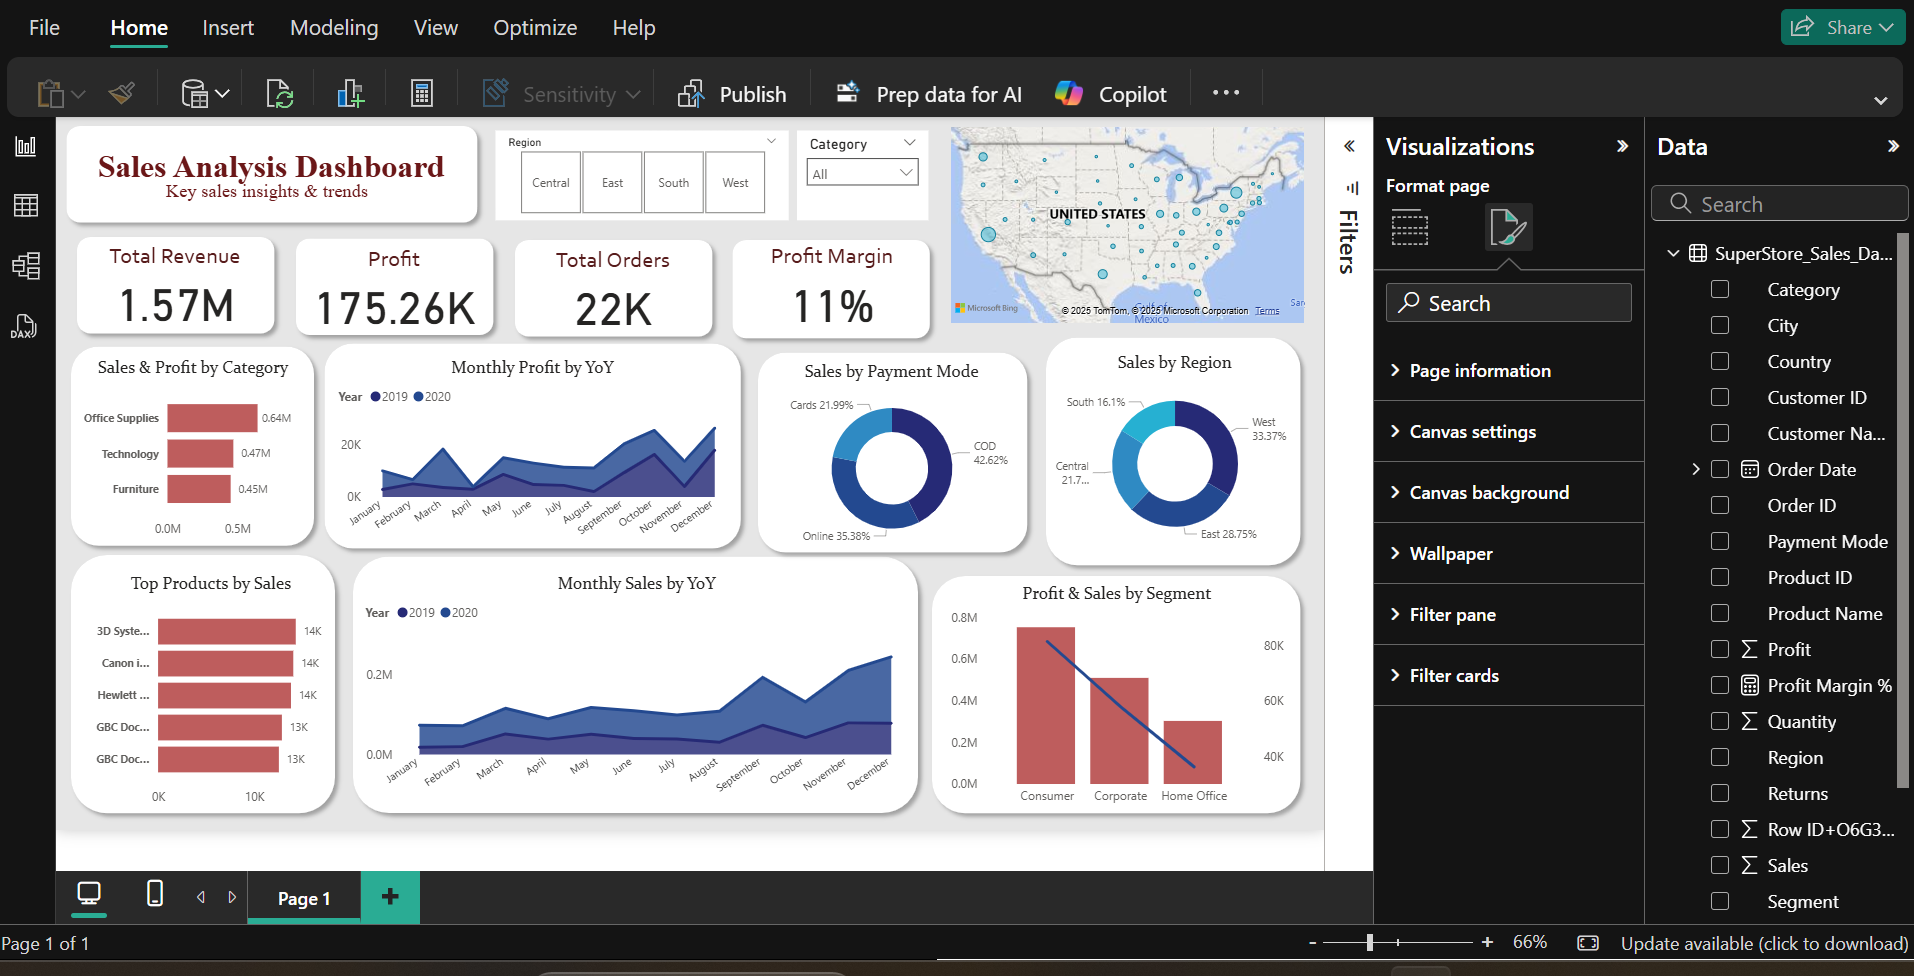

What the dashboard file says about the page in this screenshot:
{"tool":"powerbi","page":{"name":"Page 1","canvas":[1280,900],"ordinal":0},"visuals":[{"type":"cardVisual","fields":{"Data":["Orders.Total sale"]},"box":[11.4,134.3,181.4,102.9],"z":0},{"type":"cardVisual","fields":{"Data":["Orders.Total orders"]},"box":[207.1,134.3,172.9,101.4],"z":1000},{"type":"cardVisual","fields":{"Data":["Orders.Total profit"]},"box":[417.1,134.3,178.6,102.9],"z":2000},{"type":"cardVisual","fields":{"Data":["Orders.Profit Margin"]},"box":[602.9,134.3,174.3,102.9],"z":3000},{"type":"map","fields":{"Category":["Orders.State/Province"],"Size":["Orders.Total sale"]},"box":[817.1,112.9,445.7,358.6],"z":4000},{"type":"clusteredColumnChart","fields":{"Category":["Orders.Category"],"Y":["Orders.Total sale"]},"box":[408.6,484.3,385.7,207.1],"z":5000},{"type":"clusteredBarChart","title":"Top 10 Sub-Categories by Sales","fields":{"Y":["Orders.Total sale"],"Category":["Orders.Sub-Category"]},"box":[11.4,484.3,378.6,414.3],"z":6000},{"type":"donutChart","fields":{"Category":["Orders.Segment"],"Y":["Orders.Total sale"]},"box":[4.3,255.7,375.7,215.7],"z":7000},{"type":"pieChart","fields":{"Category":["Orders.Region"],"Y":["Orders.Total profit"]},"box":[414.3,255.7,375.7,215.7],"z":8000},{"type":"scatterChart","title":"Discount vs Profit","fields":{"Y":["Orders.Total profit"],"X":["Orders.Discount"]},"box":[817.1,484.3,445.7,207.1],"z":9000},{"type":"ribbonChart","title":"Sales Rank by Month","fields":{"Category":["Datetable.Month Number"],"Y":["Orders.Total sale"],"Series":["Orders.Category"]},"box":[408.6,691.4,854.3,208.6],"z":10000},{"type":"slicer","fields":{"Values":["Orders.Region"]},"box":[817.1,0,445.7,88.6],"z":11000},{"type":"slicer","fields":{"Values":["Orders.Category"]},"box":[210,64.3,360,70],"z":12000},{"type":"textbox","box":[0,0,790,55.7],"z":13000}]}

Visuals, with their boxes on the page's 1280x900 design canvas (x1, y1, x2, y2). These are canvas units, not pixel positions in the 1914x976 screenshot, which may show the page scaled, cropped or inside an application window:
cardVisual - Orders.Total sale: bbox=[11, 134, 193, 237]
cardVisual - Orders.Total orders: bbox=[207, 134, 380, 236]
cardVisual - Orders.Total profit: bbox=[417, 134, 596, 237]
cardVisual - Orders.Profit Margin: bbox=[603, 134, 777, 237]
map - Orders.State/Province x Orders.Total sale: bbox=[817, 113, 1263, 472]
clusteredColumnChart - Orders.Category x Orders.Total sale: bbox=[409, 484, 794, 691]
"Top 10 Sub-Categories by Sales" clusteredBarChart: bbox=[11, 484, 390, 899]
donutChart - Orders.Segment x Orders.Total sale: bbox=[4, 256, 380, 471]
pieChart - Orders.Region x Orders.Total profit: bbox=[414, 256, 790, 471]
"Discount vs Profit" scatterChart: bbox=[817, 484, 1263, 691]
"Sales Rank by Month" ribbonChart: bbox=[409, 691, 1263, 900]
slicer - Orders.Region: bbox=[817, 0, 1263, 89]
slicer - Orders.Category: bbox=[210, 64, 570, 134]
textbox: bbox=[0, 0, 790, 56]
